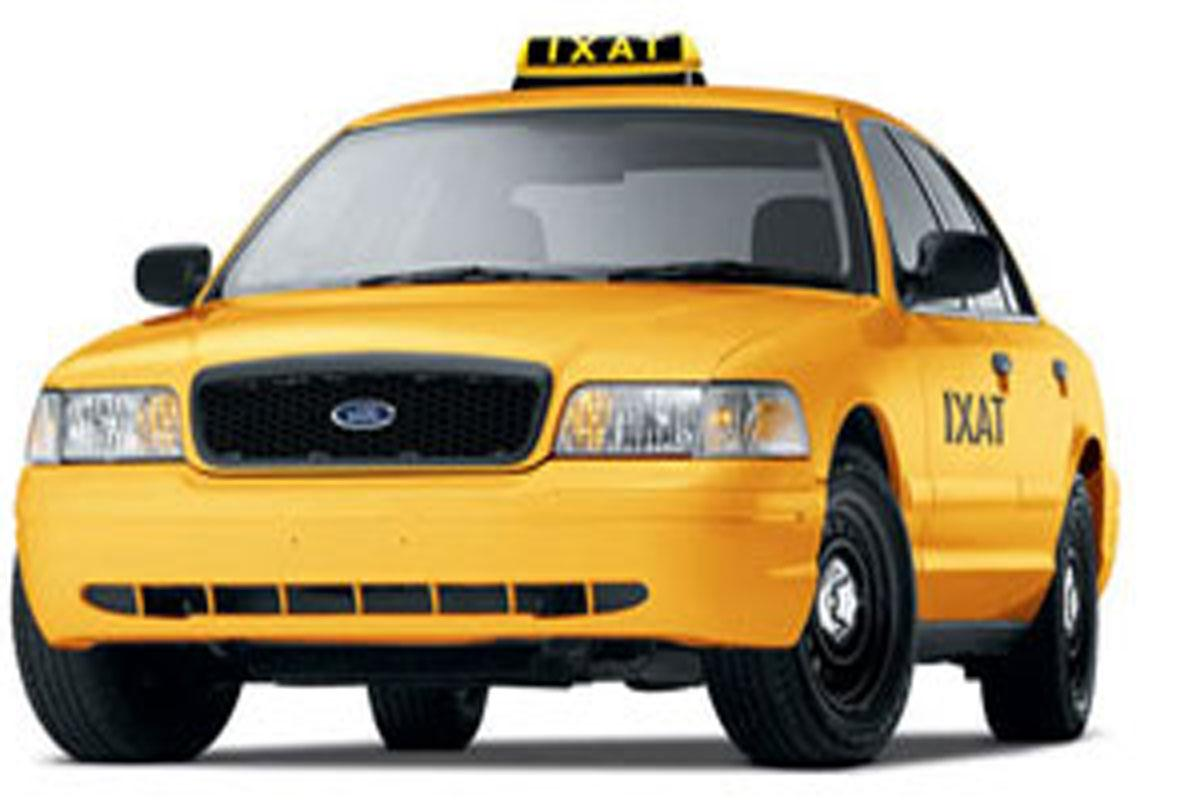taxi: (1, 1, 1169, 767)
